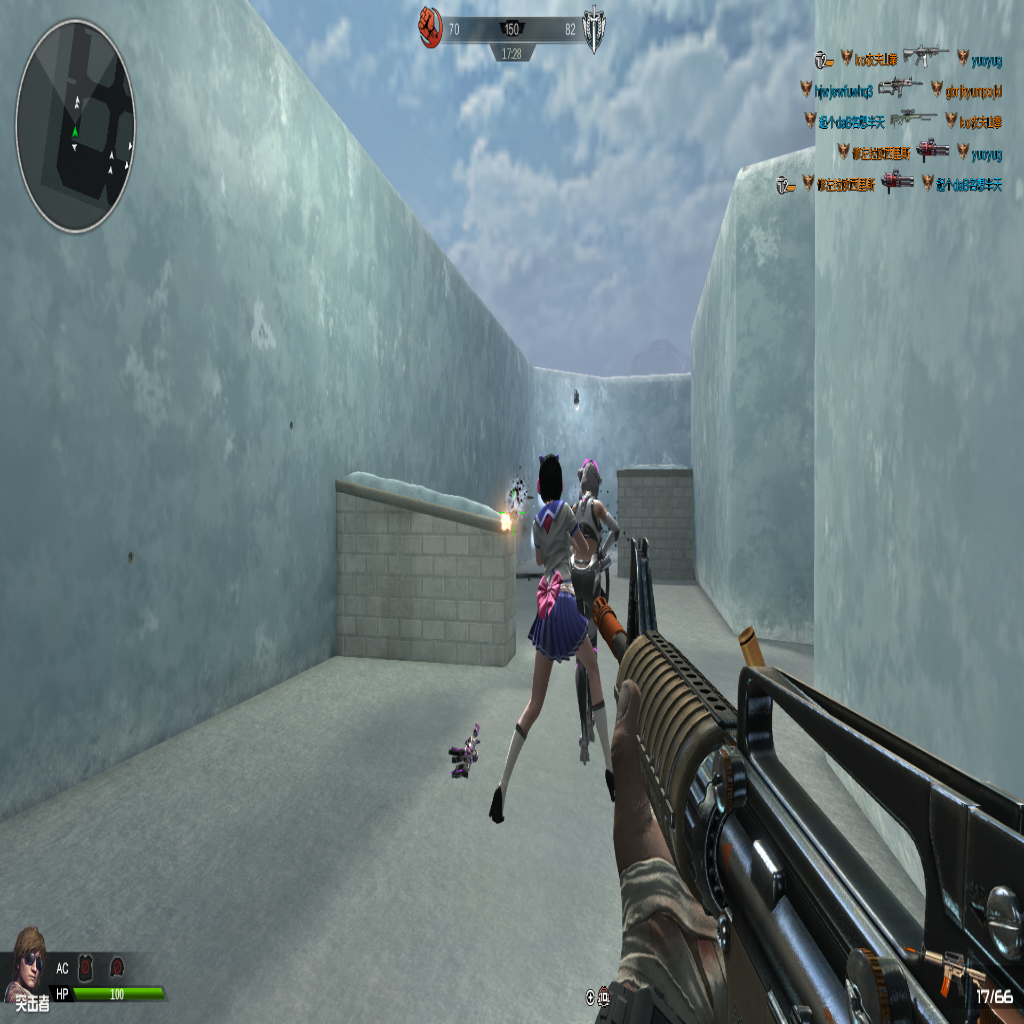tt: (569, 457, 623, 608)
